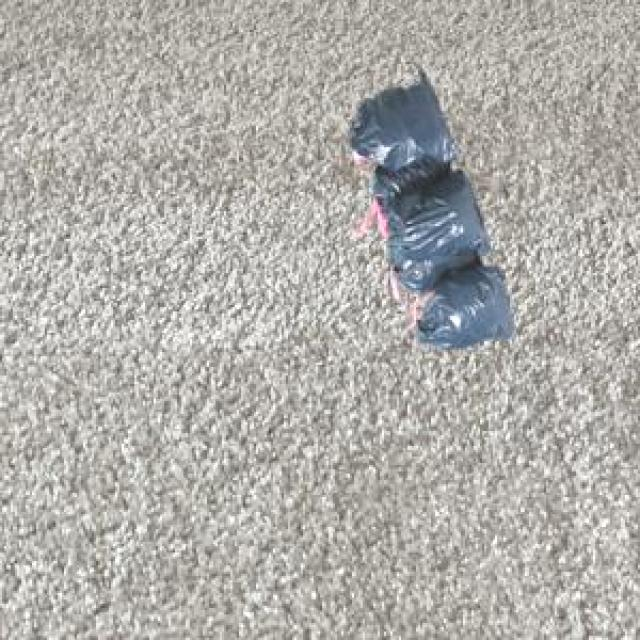Trashbag: (341, 66, 460, 166), (380, 165, 490, 266), (412, 257, 516, 355)
